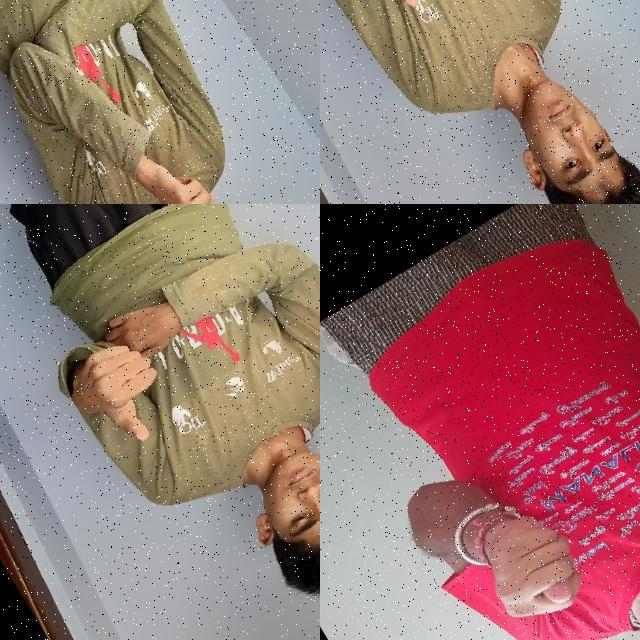Dulya: (439, 473, 612, 640)
Fist Mouth: (115, 145, 320, 204)
Thumbs Up: (53, 321, 191, 467)
